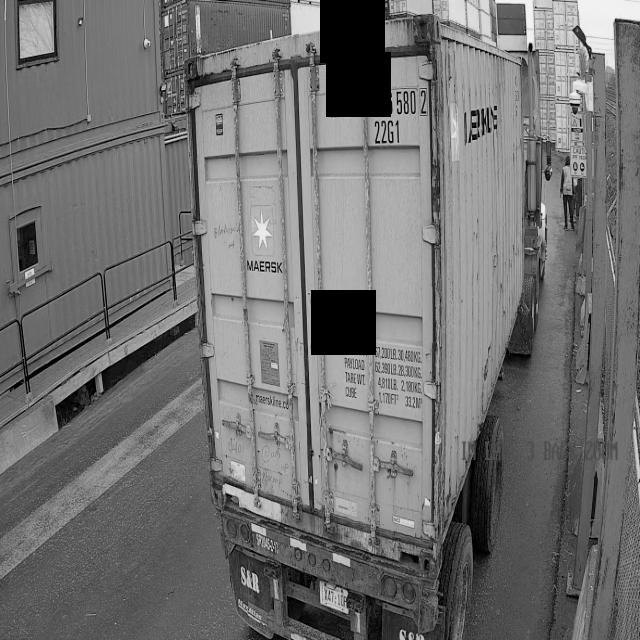container_company_logo: (229, 185, 293, 297)
container_number: (325, 80, 426, 455)
driver: (564, 158, 575, 229)
license_plate: (309, 579, 359, 620), (37, 414, 66, 443)
truck_without_container: (185, 15, 550, 640)
